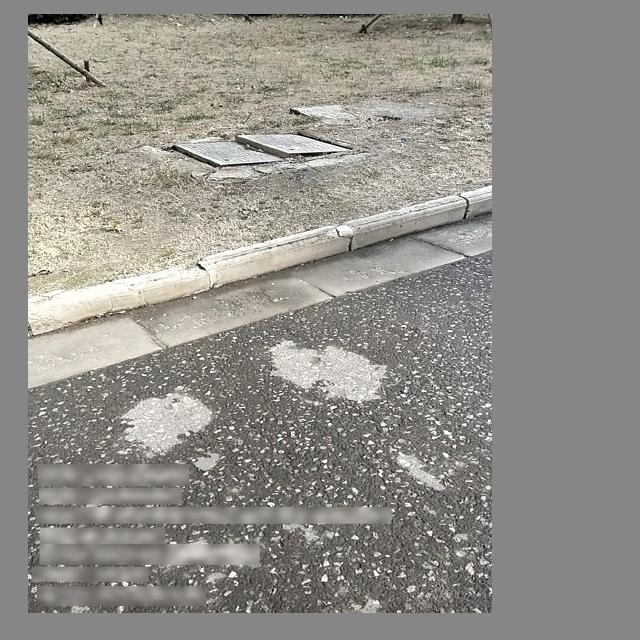uncovered: (171, 132, 353, 170)
